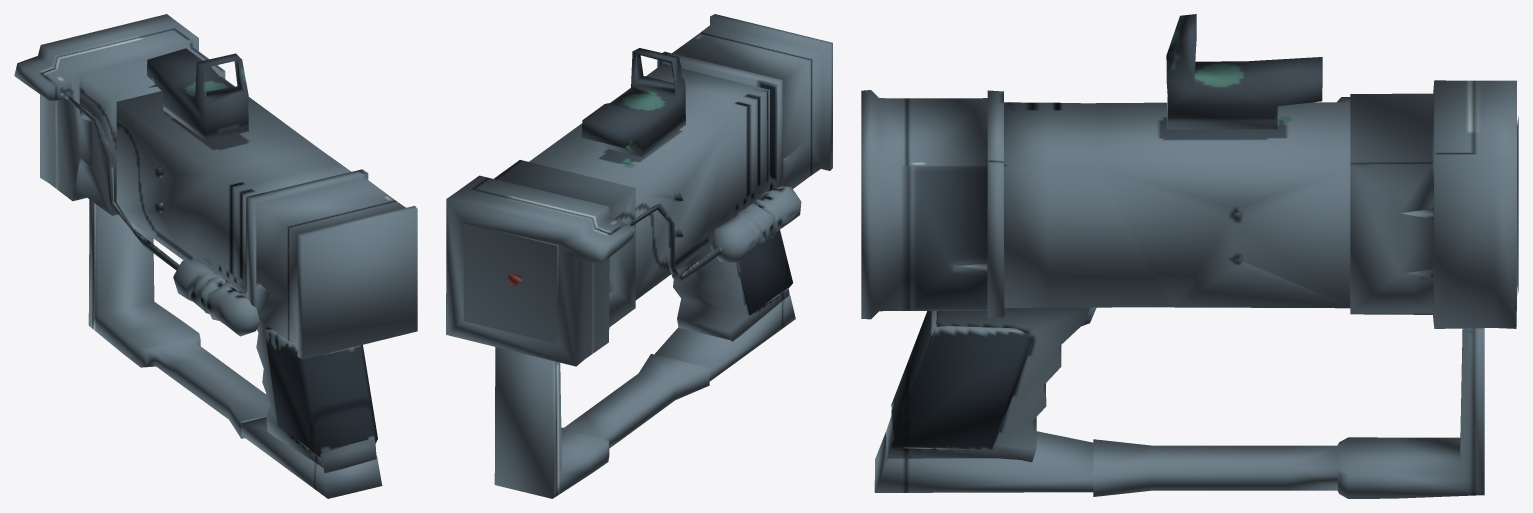
Rendered from designator.glb.
3 views of the same model, side by side, from view 1: azimuth 30°, elevation 25°; view 2: azimuth 150°, elevation 25°; view 3: azimuth 270°, elevation 25° (orthographic). The views are drawn at different scales.
Visible parts, largest first — view 1: designator; view 2: designator; view 3: designator.
Boxes of the visible parts, left/top/right/bottom form: designator: left=14, top=14, right=417, bottom=498; designator: left=446, top=14, right=832, bottom=498; designator: left=861, top=14, right=1518, bottom=498.
Size of the model in its own units: 0.1306 by 0.2851 by 0.3804.
1 material, 1 textured.
